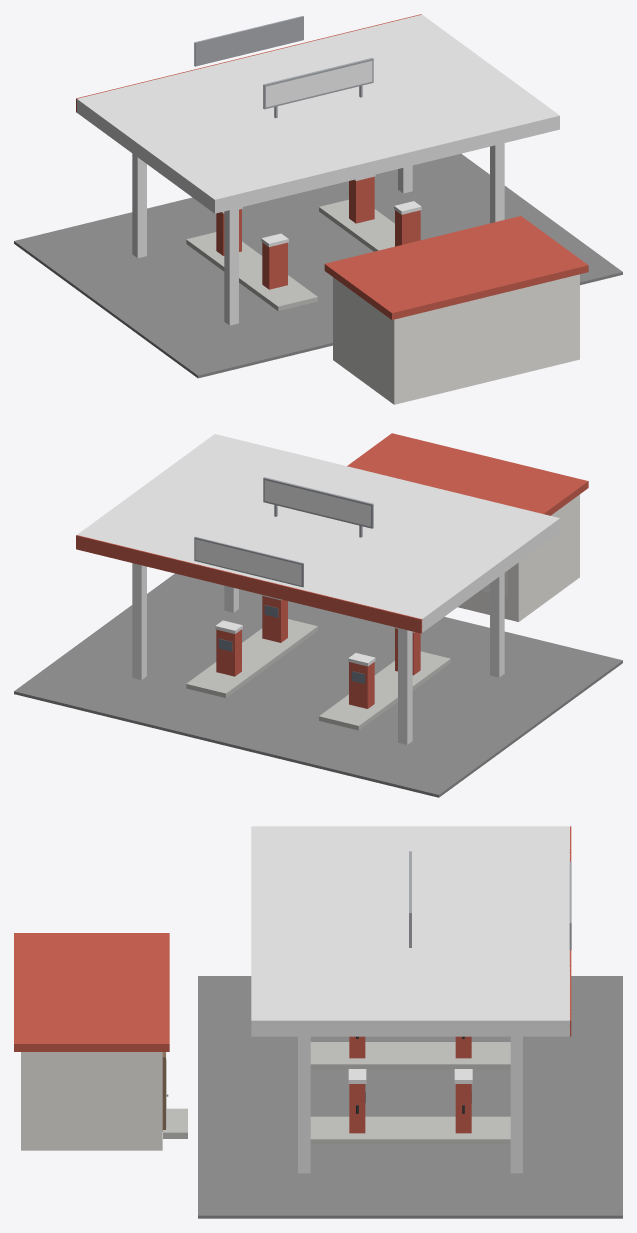
Rendered from gas_station.glb.
3 views of the same model, one above another, from view 1: azimuth 30°, elevation 25°; view 2: azimuth 150°, elevation 25°; view 3: azimuth 270°, elevation 25° (orthographic). The views are drawn at different scales.
Parts seen in each view (by area): view 1: gas_station; view 2: gas_station; view 3: gas_station.
Boxes of the visible parts, bbox=[...] form: gas_station: bbox=[14, 14, 622, 404]; gas_station: bbox=[14, 433, 622, 797]; gas_station: bbox=[14, 826, 622, 1218].
Size of what is drawn, in the model's own units: 16 by 6.89 by 17.2.
